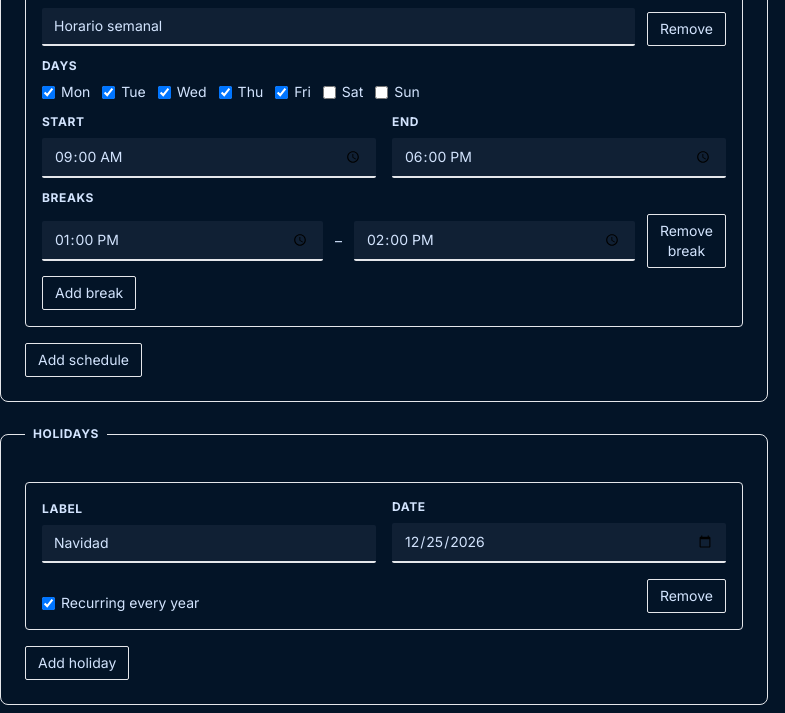
Scenario: TenantConfig (F3.4) › añade y elimina bloques de horario visualmente
(page scrolled)
What coordinates should you click on to do the following:
click the button "Add schedule"
I would click on:
 (84, 360)
Its box is x1=25 y1=343 x2=142 y2=377.
(page scrolled)
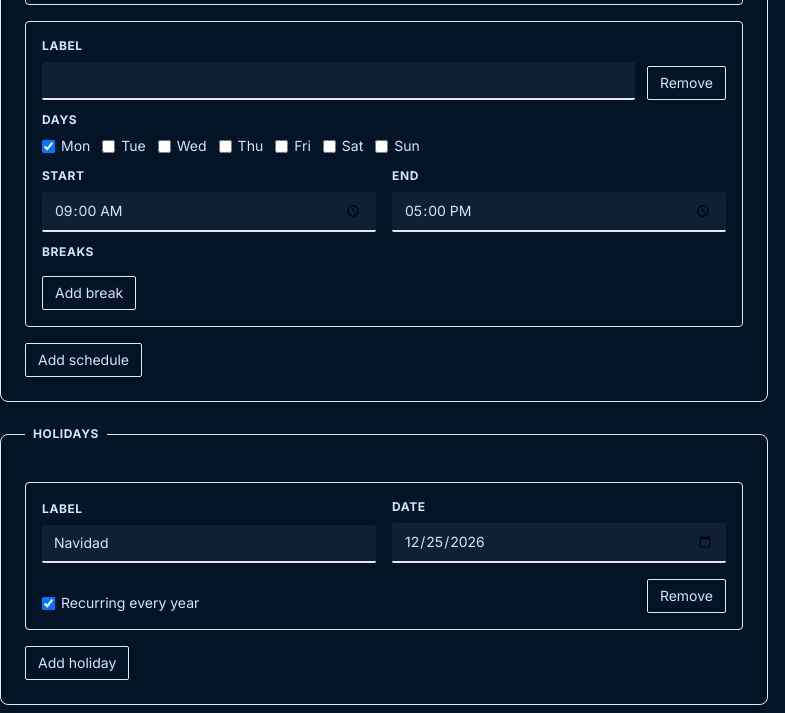
Check: the element with test id "schedule-block-1" is shown, box x1=25 y1=21 x2=743 y2=327
What coordinates should you click on to do the following:
click the 1st button "Remove"
I would click on:
 (686, 83)
Its box is x1=647 y1=66 x2=726 y2=100.
(page scrolled)
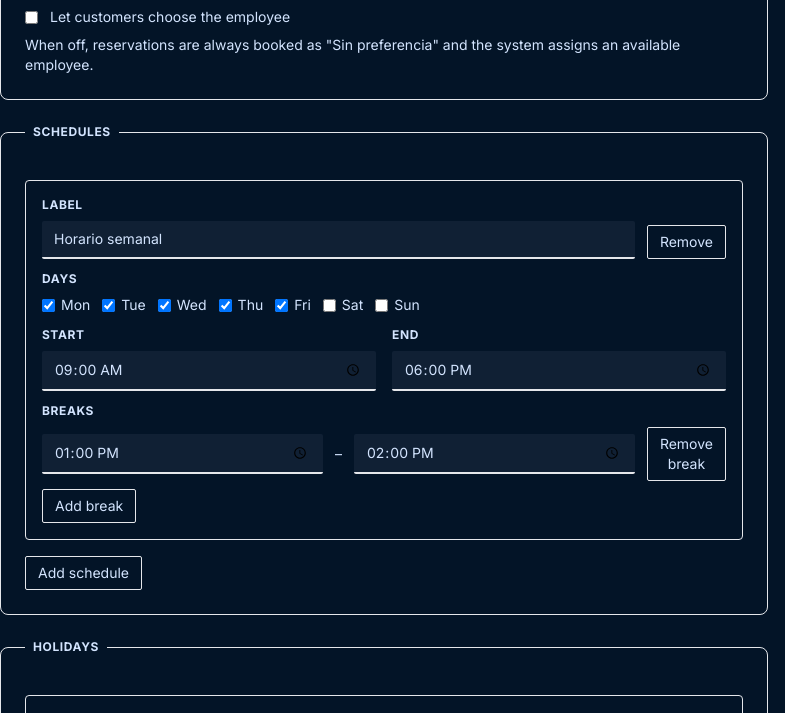
Check: the element with test id "schedule-block-0" is shown, box x1=25 y1=180 x2=743 y2=540
Check: the element with test id "schedule-block-1" is gone
